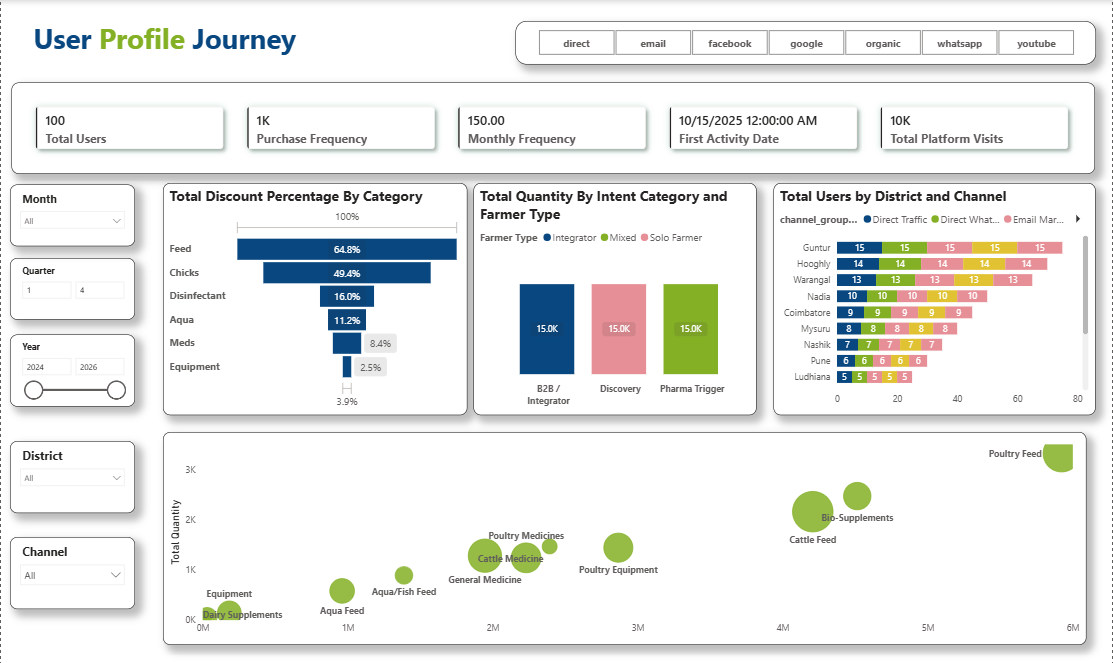

The dashboard page shown, as its layout file describes it:
{"tool":"powerbi","page":{"name":"User Profile Journey","canvas":[1500,900],"ordinal":2},"visuals":[{"type":"cardVisual","fields":{"Data":["All Measures.Total Users","All Measures.Purchase Frequency","All Measures.Monthly Frequency","All Measures.First Activity Date","All Measures.Total Platform Visits"]},"box":[14.2,111.6,1462,123.4],"z":0},{"type":"funnel","title":"Total Discount Percentage By Category","fields":{"Y":["All Measures.Discount %"],"Category":["dim_products.category"]},"box":[218.4,246.8,410.6,313.3],"z":1000},{"type":"scatterChart","title":"Revenue and Quantity purchased By Primary focus Products and platform visits","fields":{"Category":["dim_geospatial_market.primary_product_focus"],"X":["All Measures.Total Revenue"],"Y":["All Measures.Total Quantity"],"Size":["All Measures.Total Platform Visits"]},"box":[218.4,583.9,1246,287.2],"z":2000},{"type":"columnChart","title":"Total Quantity By Intent Category and Farmer Type","fields":{"Category":["dim_search_intents.intent_category"],"Series":["dim_search_intents.farmer_type_signal"],"Y":["Sum(fact_order_items.quantity)"]},"box":[638.4,246.8,382.1,313.3],"z":3000},{"type":"barChart","title":"Total Users by District and Channel","fields":{"Series":["dim_utm_metadata.channel_grouping"],"Category":["dim_geospatial_market.district"],"Y":["All Measures.Total Users"]},"box":[1041.9,246.8,434.3,313.3],"z":4000},{"type":"textbox","box":[38.9,21,631.5,72.9],"z":5000},{"type":"slicer","fields":{"Values":["dim_calendar.year"]},"box":[11.9,450.9,168.5,97.3],"z":6000},{"type":"slicer","fields":{"Values":["dim_calendar.quarter"]},"box":[11.9,348.9,168.5,83.1],"z":7000},{"type":"slicer","fields":{"Values":["dim_geospatial_market.district"]},"box":[11.9,595.7,168.5,97.3],"z":8000},{"type":"slicer","fields":{"Values":["dim_calendar.month_name"]},"box":[11.9,249.2,168.5,83.1],"z":9000},{"type":"slicer","fields":{"Values":["dim_utm_metadata.channel_grouping"]},"box":[11.9,723.9,168.5,97.3],"z":10000},{"type":"slicer","fields":{"Values":["dim_utm_metadata.Source"]},"box":[694.2,28.3,783.3,58.7],"z":11000}]}

Visuals, with their boxes in screenshot pixels (x1, y1, x2, y2), scaled from the page's 1500x900 canvas onto the 1113x663 screenshot:
cardVisual - All Measures.Total Users x All Measures.Purchase Frequency: {"x1": 11, "y1": 82, "x2": 1095, "y2": 173}
"Total Discount Percentage By Category" funnel: {"x1": 162, "y1": 182, "x2": 467, "y2": 413}
"Revenue and Quantity purchased By Primary focus Products and platform visits" scatterChart: {"x1": 162, "y1": 430, "x2": 1087, "y2": 642}
"Total Quantity By Intent Category and Farmer Type" columnChart: {"x1": 474, "y1": 182, "x2": 757, "y2": 413}
"Total Users by District and Channel" barChart: {"x1": 773, "y1": 182, "x2": 1095, "y2": 413}
textbox: {"x1": 29, "y1": 15, "x2": 497, "y2": 69}
slicer - dim_calendar.year: {"x1": 9, "y1": 332, "x2": 134, "y2": 404}
slicer - dim_calendar.quarter: {"x1": 9, "y1": 257, "x2": 134, "y2": 318}
slicer - dim_geospatial_market.district: {"x1": 9, "y1": 439, "x2": 134, "y2": 511}
slicer - dim_calendar.month_name: {"x1": 9, "y1": 184, "x2": 134, "y2": 245}
slicer - dim_utm_metadata.channel_grouping: {"x1": 9, "y1": 533, "x2": 134, "y2": 605}
slicer - dim_utm_metadata.Source: {"x1": 515, "y1": 21, "x2": 1096, "y2": 64}
